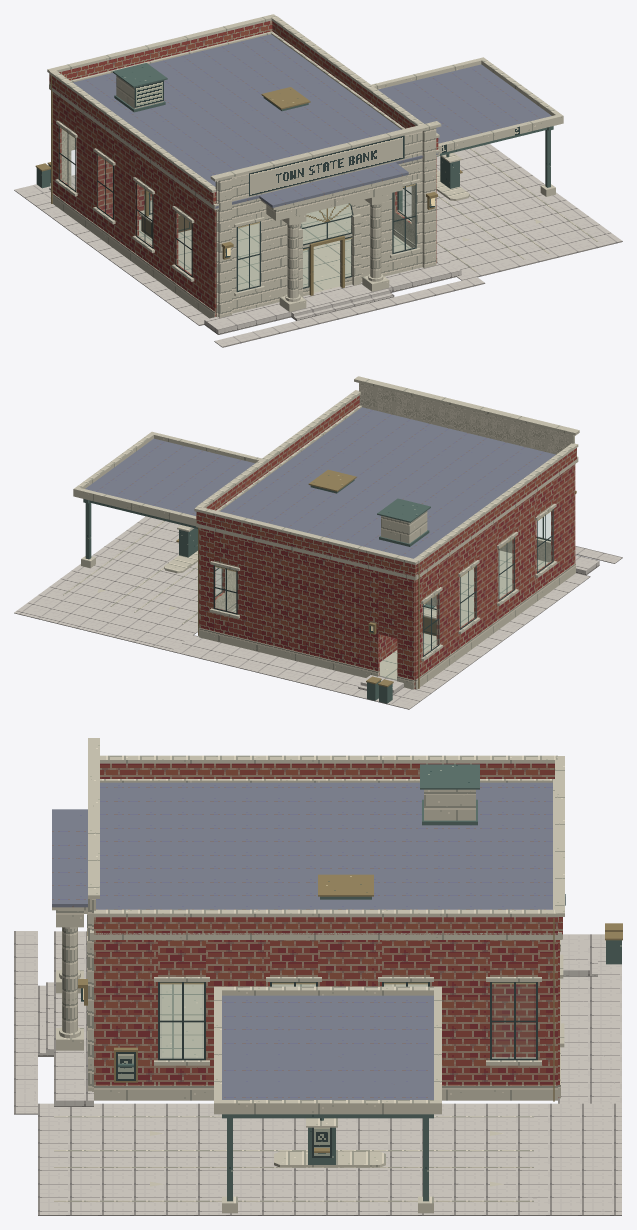
File: small-town-bank-drive-through.glb
The picture shows the model from 3 angles, top to bottom: view 1: azimuth 30°, elevation 25°; view 2: azimuth 150°, elevation 25°; view 3: azimuth 270°, elevation 25°; orthographic projection. The views are drawn at different scales.
Visible parts, largest first — view 1: structure__wall_stone, structure__roof_membrane, structure__wall_brick, lot__ground_paving, structure__glass_bank, drive_through__roof_membrane, structure__ground_floor, structure__ground_paving, sign_name, drive_through__wall_stone, structure__detail_bronze, structure__detail_steel (+5 smaller); view 2: structure__wall_brick, structure__roof_membrane, lot__ground_paving, structure__wall_stone, drive_through__roof_membrane, structure__glass_bank, drive_through__wall_stone, structure__ground_floor, structure__detail_steel, structure__detail_bronze, drive_through__detail_steel, structure__ground_paving (+3 smaller); view 3: lot__ground_paving, structure__roof_membrane, structure__wall_brick, structure__wall_stone, drive_through__roof_membrane, structure__glass_bank, drive_through__wall_stone, structure__ground_paving, structure__ground_floor, lot__wall_stone, structure__detail_steel, drive_through__detail_steel (+2 smaller).
Part boxes in pixels (bbox=[...]): structure__wall_stone: bbox=[47, 14, 441, 318]; structure__roof_membrane: bbox=[73, 34, 439, 208]; structure__wall_brick: bbox=[49, 20, 438, 316]; lot__ground_paving: bbox=[14, 144, 622, 347]; structure__glass_bank: bbox=[59, 126, 416, 292]; drive_through__roof_membrane: bbox=[378, 64, 551, 143]; structure__ground_floor: bbox=[139, 200, 411, 292]; structure__ground_paving: bbox=[49, 181, 461, 334]; sign_name: bbox=[249, 135, 404, 196]; drive_through__wall_stone: bbox=[371, 57, 563, 196]; structure__detail_bronze: bbox=[51, 75, 437, 295]; structure__detail_steel: bbox=[112, 63, 308, 112]; structure__wall_brick: bbox=[196, 395, 576, 688]; structure__roof_membrane: bbox=[220, 407, 555, 558]; lot__ground_paving: bbox=[14, 516, 622, 709]; structure__wall_stone: bbox=[194, 376, 579, 689]; drive_through__roof_membrane: bbox=[85, 438, 254, 515]; structure__glass_bank: bbox=[213, 509, 553, 656]; drive_through__wall_stone: bbox=[73, 431, 261, 568]; structure__ground_floor: bbox=[231, 550, 548, 680]; structure__detail_steel: bbox=[310, 479, 430, 546]; structure__detail_bronze: bbox=[198, 469, 576, 688]; drive_through__detail_steel: bbox=[83, 499, 197, 559]; structure__ground_paving: bbox=[358, 555, 599, 695]; lot__ground_paving: bbox=[14, 931, 621, 1215]; structure__roof_membrane: bbox=[52, 782, 552, 909]; structure__wall_brick: bbox=[94, 763, 562, 1097]; structure__wall_stone: bbox=[52, 738, 564, 1100]; drive_through__roof_membrane: bbox=[222, 995, 433, 1099]; structure__glass_bank: bbox=[158, 982, 537, 1060]; drive_through__wall_stone: bbox=[214, 986, 441, 1213]; structure__ground_paving: bbox=[38, 931, 597, 1106]; structure__ground_floor: bbox=[160, 984, 535, 1058]; lot__wall_stone: bbox=[54, 1116, 533, 1201]; structure__detail_steel: bbox=[320, 764, 479, 899]; drive_through__detail_steel: bbox=[222, 1114, 433, 1201].
Size of what is drawn, in the model's own units: 26.23 by 8.85 by 23.63.
12 materials, 12 textured.
